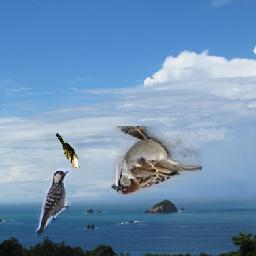Cuckoo: (57, 134, 82, 169)
Sparrow: (112, 126, 203, 196)
Woodpecker: (34, 166, 73, 239)
